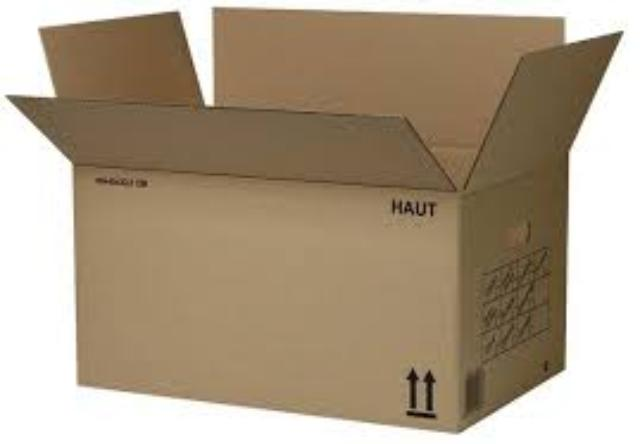cardboard paper: (7, 7, 616, 426)
